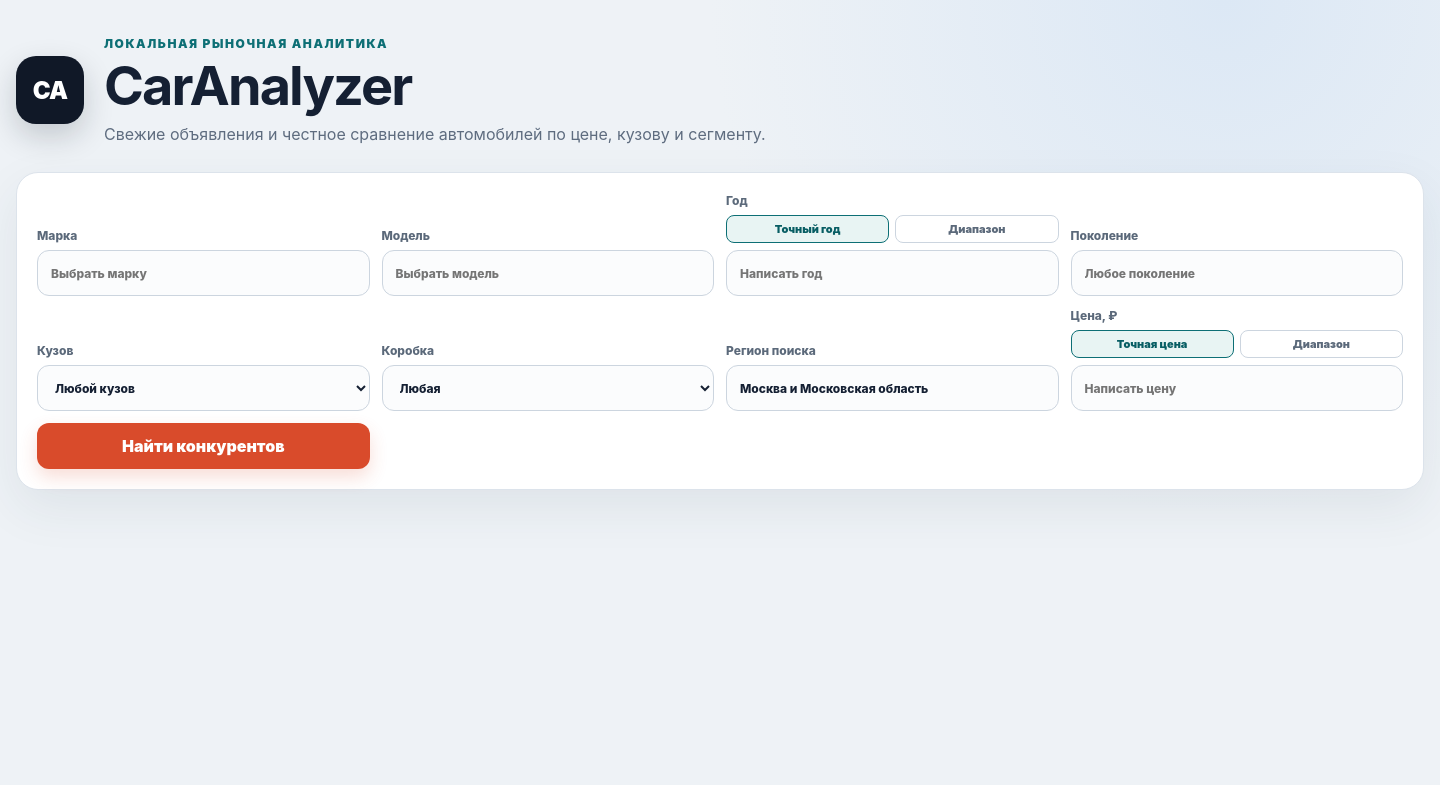
Scenario: CarAnalyzer form › uses dotted prices for target, averages, min/max, listings and RUB differences
Type "Example Brand" into the dropdown labelled "Марка" at (203, 273), box [37,250,370,296]
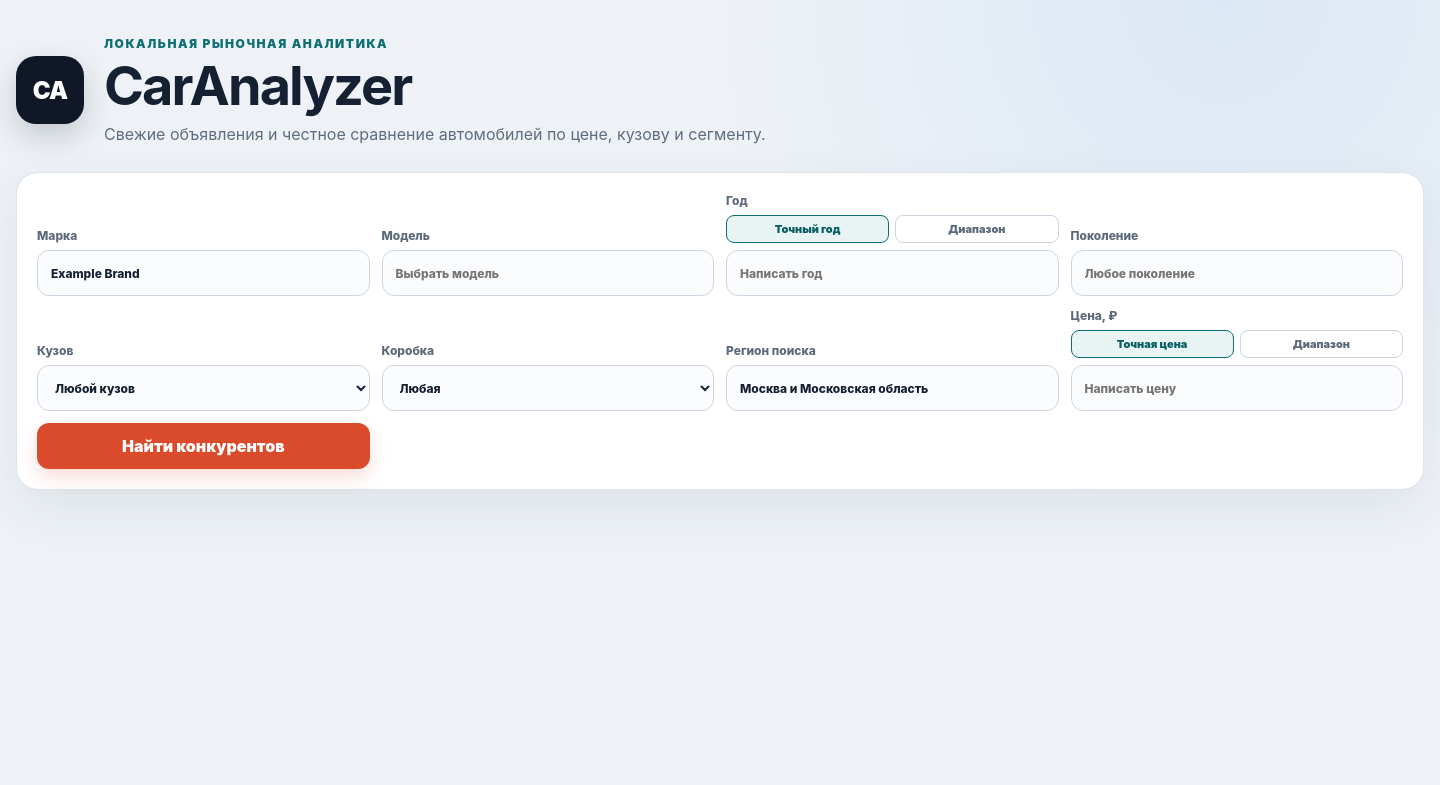
Type "Example Model" into the dropdown labelled "Модель" at (548, 273), box [382,250,714,296]
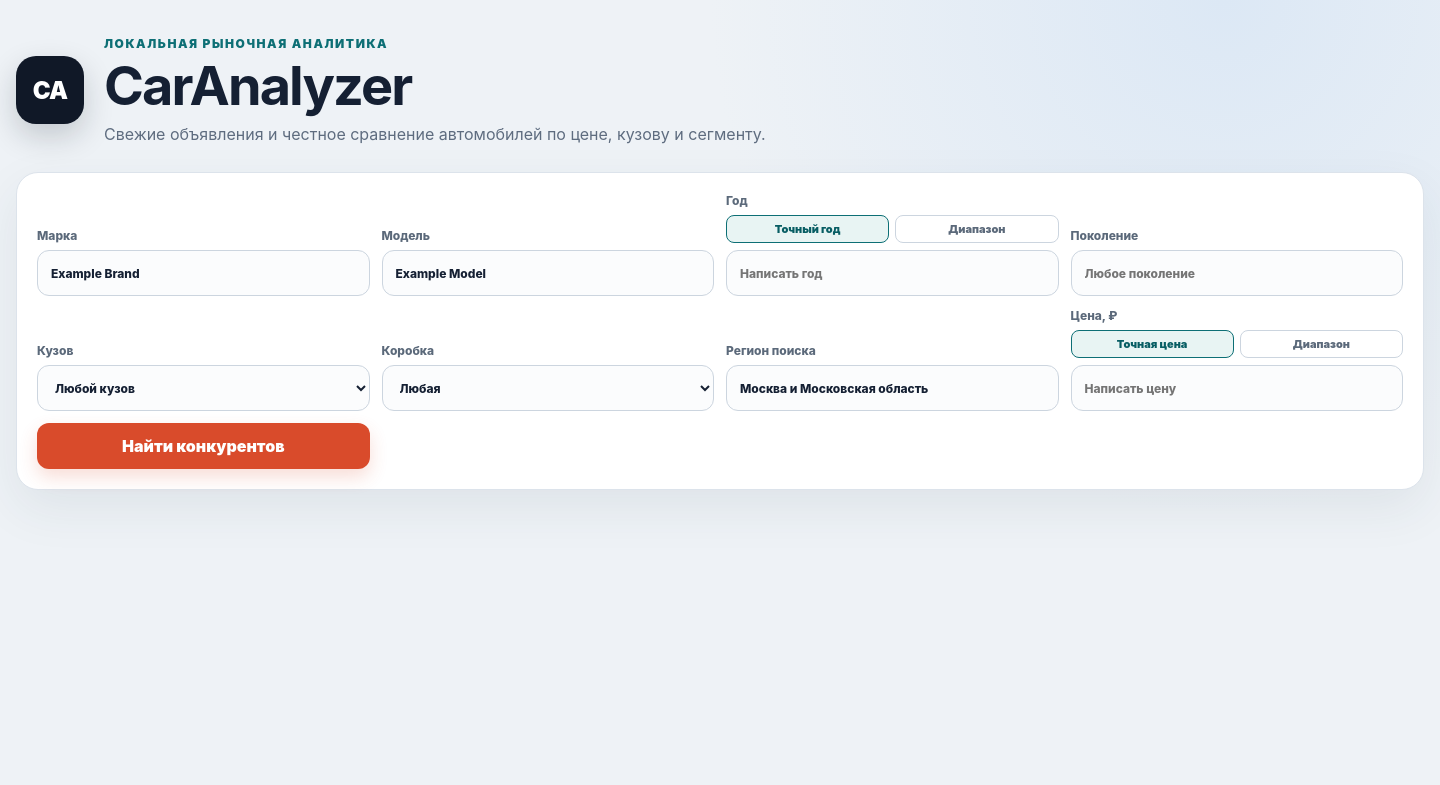
Type "2016" into the number field labelled "год" at (892, 273), box [726,250,1058,296]
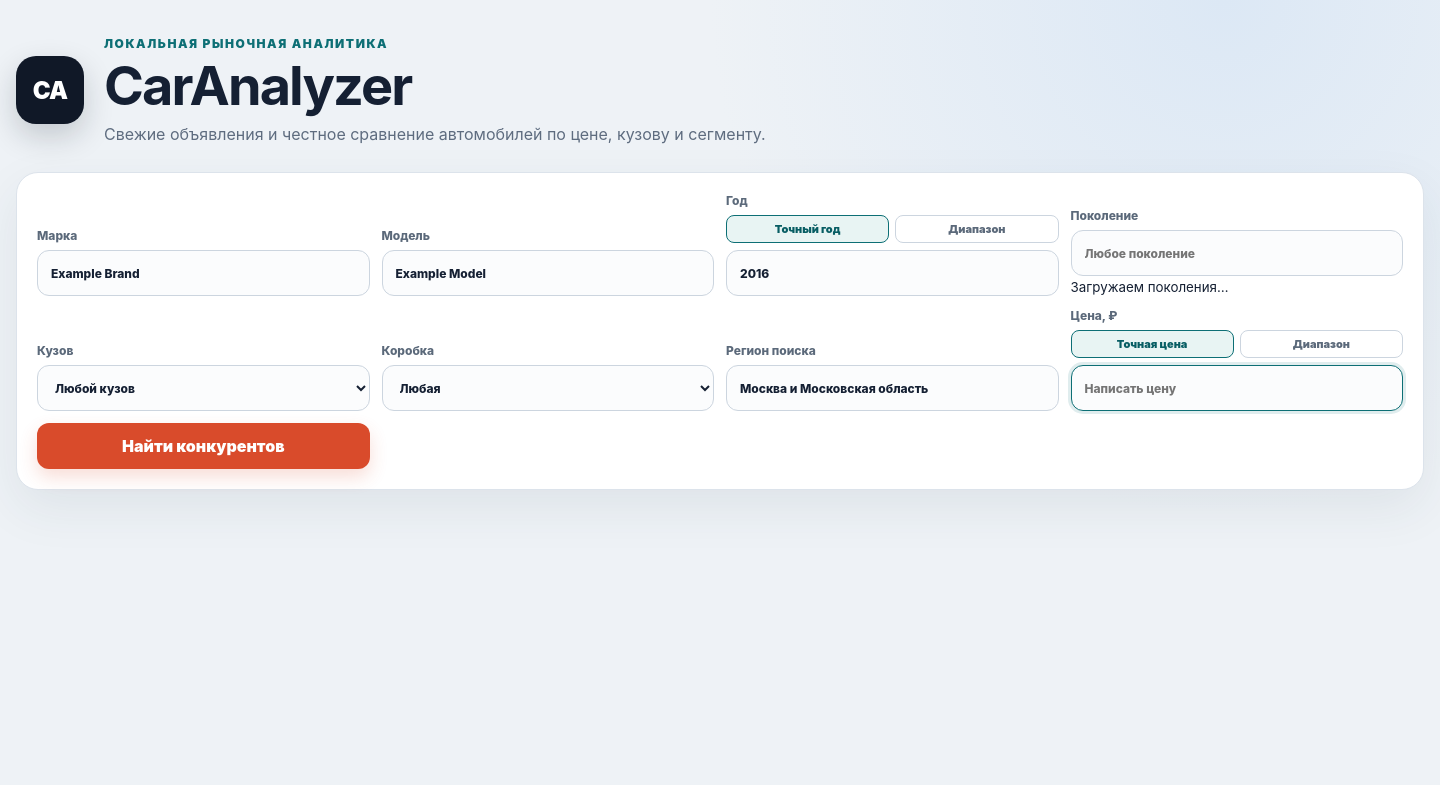
Type "700000" into the field named "Цена" at (1237, 388), box [1070,365,1403,411]
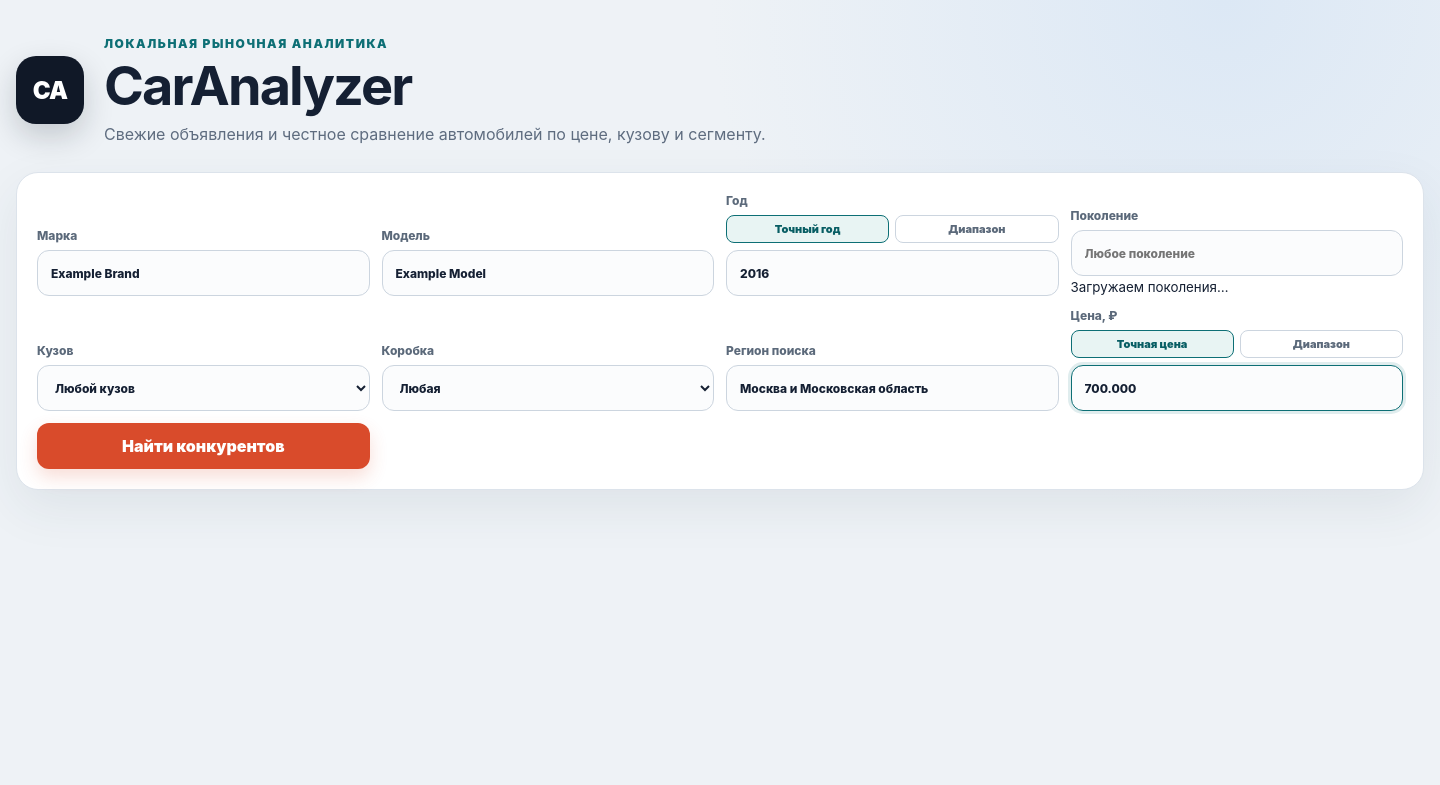
Expected: the field named "Цена" holds "700.000", [1070,365,1403,411]
Click the button "Найти конкурентов" at (203, 446), box [37,423,370,469]
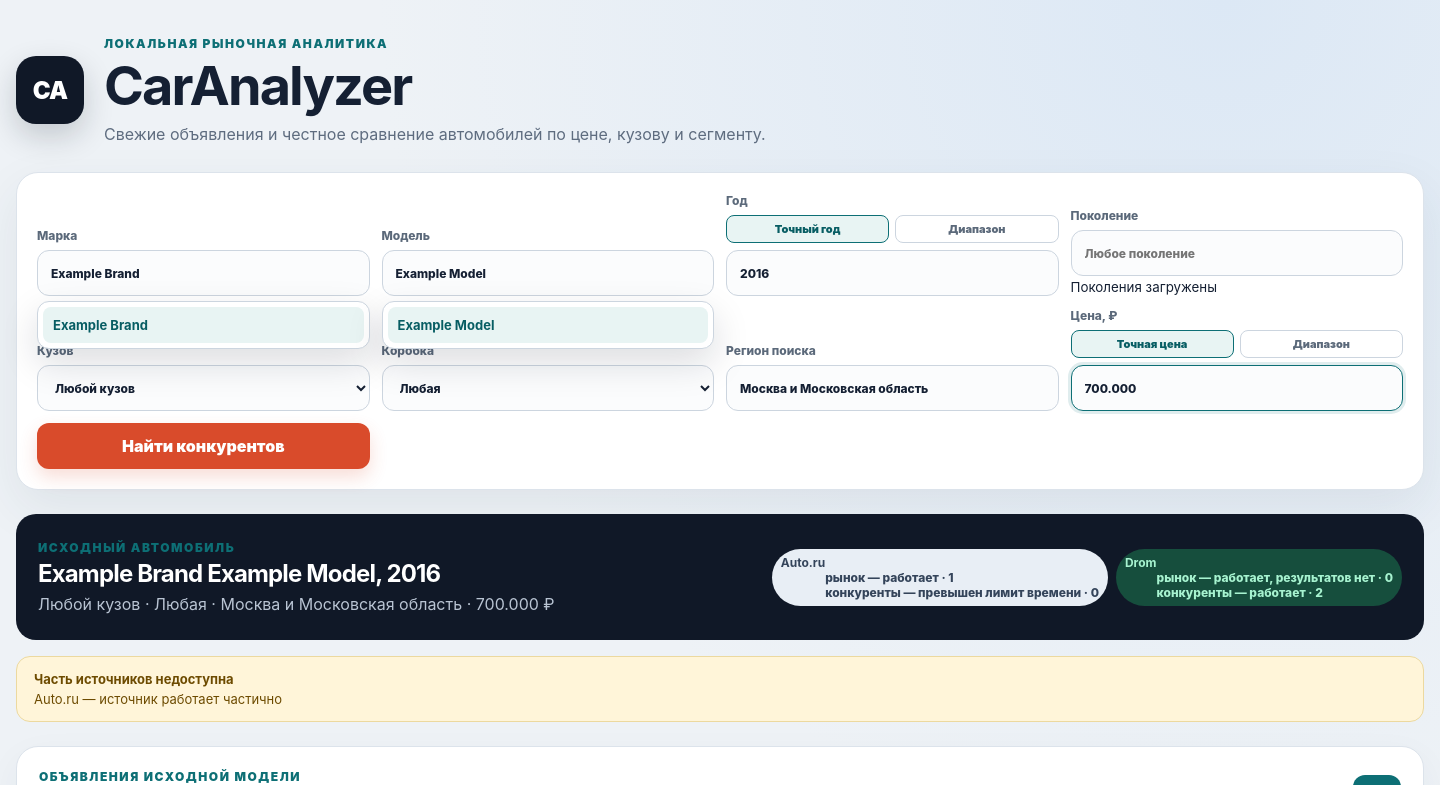
Expected: the text "700.000 ₽" is shown, [476,594,555,614]
